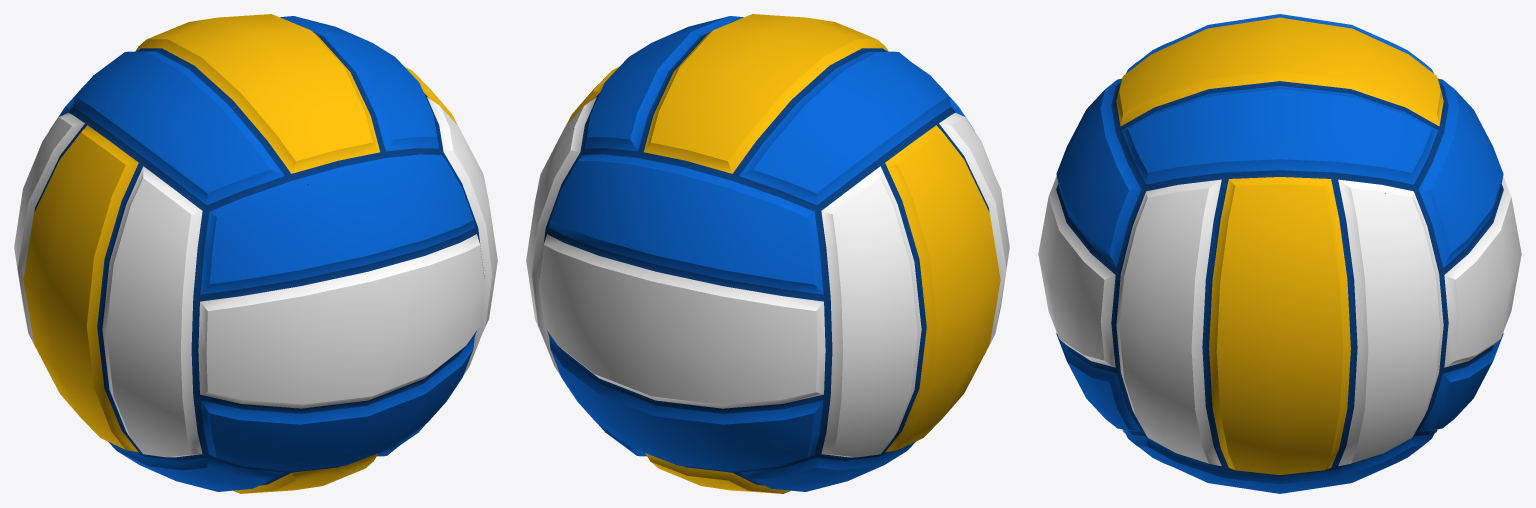
Rendered from vollyball.glb.
3 views of the same model, side by side, from view 1: azimuth 30°, elevation 25°; view 2: azimuth 150°, elevation 25°; view 3: azimuth 270°, elevation 25° (orthographic).
Parts seen in each view (by area): view 1: VolleyballV1; view 2: VolleyballV1; view 3: VolleyballV1.
Part boxes in pixels (left/top/right/bottom): VolleyballV1: left=14, top=14, right=497, bottom=493; VolleyballV1: left=526, top=14, right=1009, bottom=493; VolleyballV1: left=1038, top=14, right=1521, bottom=493.
Bounding box in the file's own units: 1.73 × 1.73 × 1.73.
1 material, 1 textured.
